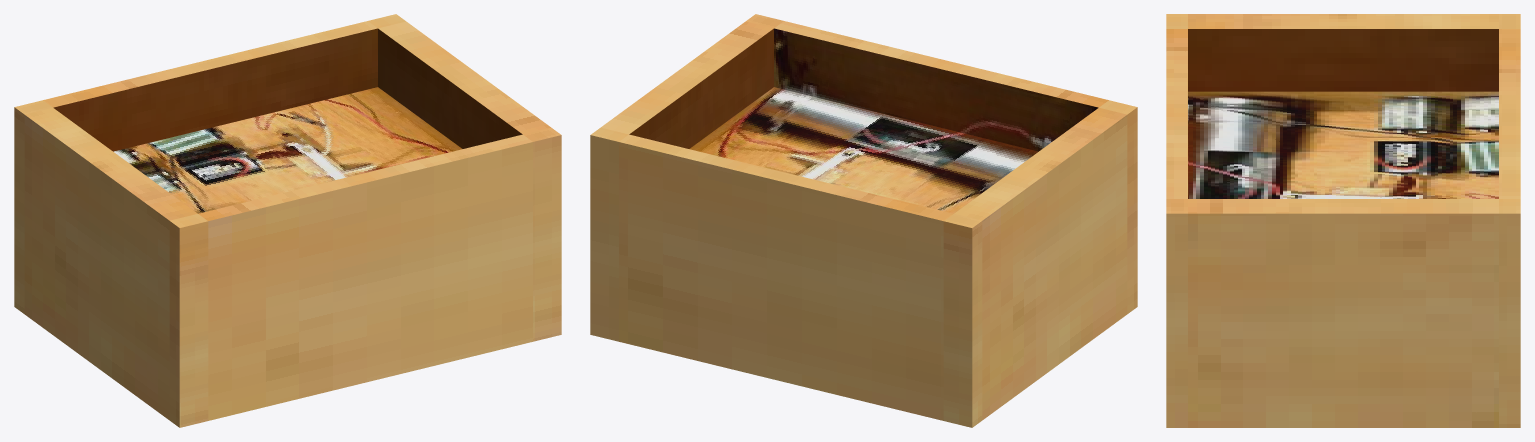
Rendered from package.glb.
The picture shows the model from 3 angles, left to right: view 1: azimuth 30°, elevation 25°; view 2: azimuth 150°, elevation 25°; view 3: azimuth 270°, elevation 25°; orthographic projection. The views are drawn at different scales.
Parts seen in each view (by area): view 1: Cube; view 2: Cube; view 3: Cube.
Boxes of the visible parts, x1,y1,x2,y2 form: Cube: [14, 14, 561, 427]; Cube: [590, 14, 1137, 427]; Cube: [1166, 14, 1520, 427].
Size of the model in its own units: 0.8 by 0.4 by 0.6.
1 material, 1 textured.
